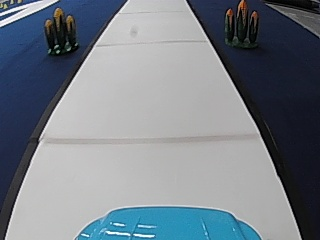corn: (218, 2, 265, 51), (40, 7, 81, 56)
